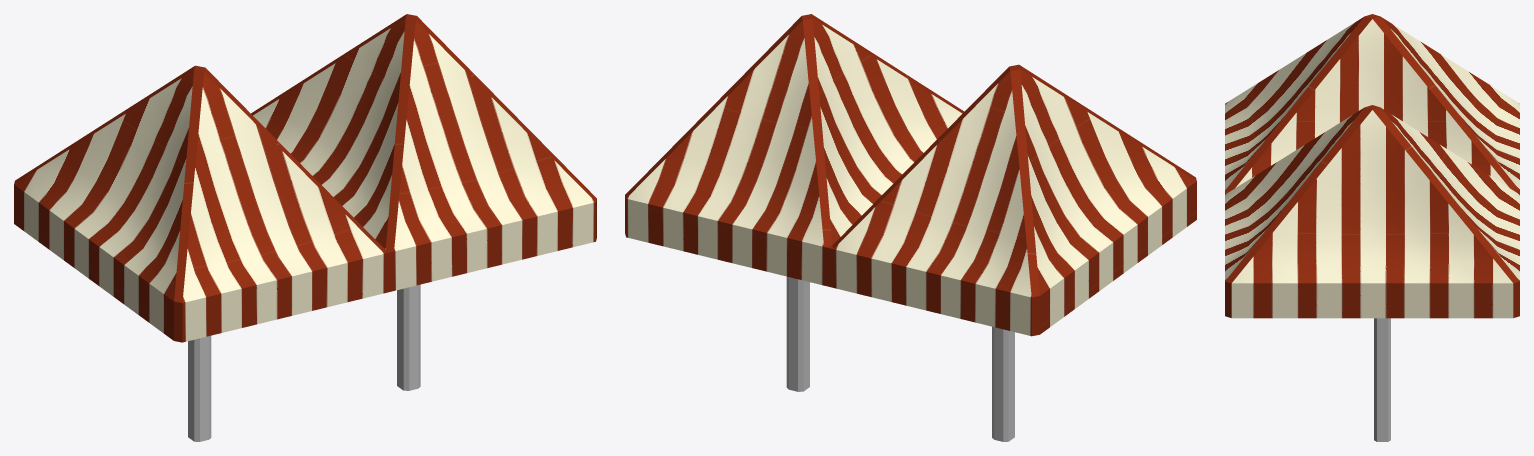
Rendered from Sm_Booth_Top3.fbx.
3 views of the same model, side by side, from view 1: azimuth 30°, elevation 25°; view 2: azimuth 150°, elevation 25°; view 3: azimuth 270°, elevation 25° (orthographic). The views are drawn at different scales.
Visible parts, largest first — view 1: Top3; view 2: Top3; view 3: Top3.
Boxes of the visible parts, x1=… form: Top3: x1=14, y1=14, x2=596, y2=441; Top3: x1=625, y1=14, x2=1196, y2=441; Top3: x1=1225, y1=14, x2=1519, y2=441.
Size of the model in its own units: 578 by 489 by 396.
